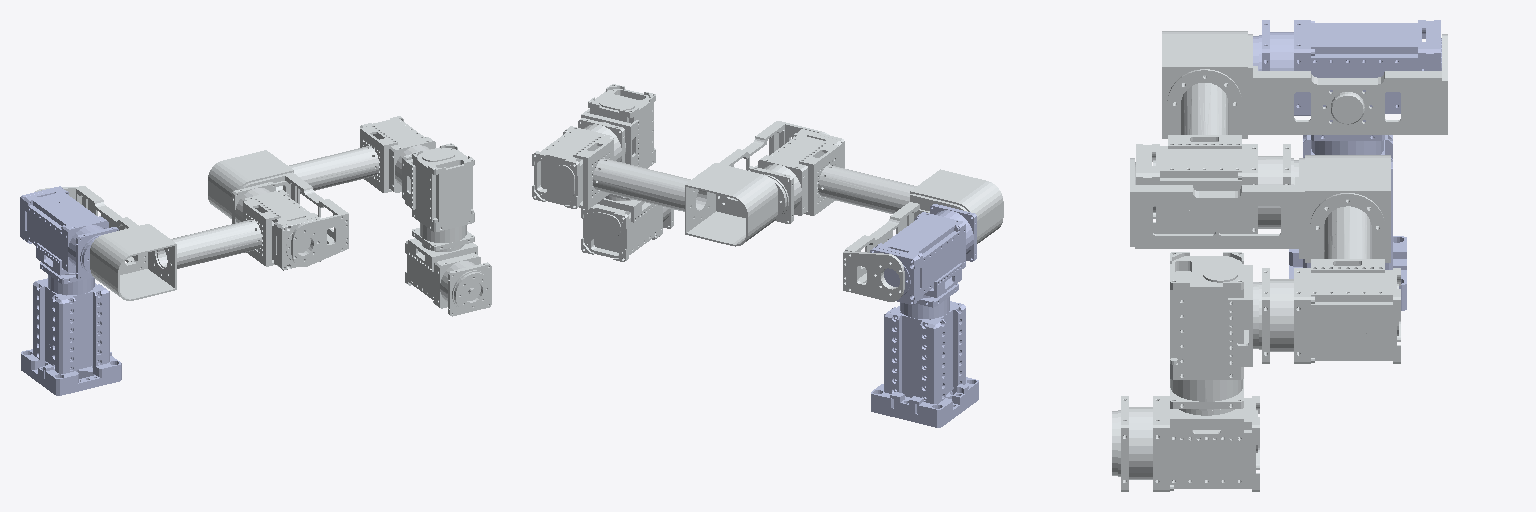
The robot description file, URDF, robot "single_arm_v12":
<?xml version="1.0" encoding="utf-8"?>
<!-- This URDF was automatically created by SolidWorks to URDF Exporter! Originally created by [author] ([email redacted]) 
     Commit Version: 1.6.0-4-g7f85cfe  Build Version: 1.6.7995.38578
     For more information, please see http://wiki.ros.org/sw_urdf_exporter -->
<robot
  name="single_arm_v12">
  <link name="dummy"/>
  <joint name="dummy_joint" type="fixed">
    <parent link="dummy"/>
    <child link="base_link"/>
    </joint>
  <link name='base_link'>
  <!-- <link
    name="base_link"> -->
    <inertial>
      <origin
        xyz="0.00015625 0.00020296 0.064397"
        rpy="0 0 0" />
      <mass
        value="0.47711" />
      <inertia
        ixx="0.00059036"
        ixy="3.555E-10"
        ixz="4.1821E-06"
        iyy="0.00058997"
        iyz="9.8398E-08"
        izz="0.00022102" />
    </inertial>
    <visual>
      <origin
        xyz="0 0 0"
        rpy="0 0 0" />
      <geometry>
        <mesh
          filename="package://single_arm_v12/meshes/base_link.STL" />
      </geometry>
      <material
        name="">
        <color
          rgba="0.79216 0.81961 0.93333 1" />
      </material>
    </visual>
    <collision>
      <origin
        xyz="0 0 0"
        rpy="0 0 0" />
      <geometry>
        <mesh
          filename="package://single_arm_v12/meshes/base_link.STL" />
      </geometry>
    </collision>
  </link>
  <link
    name="Link1">
    <inertial>
      <origin
        xyz="3.4484E-06 0.00039863 0.028769"
        rpy="0 0 0" />
      <mass
        value="0.38613" />
      <inertia
        ixx="0.00047431"
        ixy="-7.0827E-08"
        ixz="-3.5556E-10"
        iyy="0.00017465"
        iyz="4.1821E-06"
        izz="0.00048907" />
    </inertial>
    <visual>
      <origin
        xyz="0 0 0"
        rpy="0 0 0" />
      <geometry>
        <mesh
          filename="package://single_arm_v12/meshes/Link1.STL" />
      </geometry>
      <material
        name="">
        <color
          rgba="0.79216 0.81961 0.93333 1" />
      </material>
    </visual>
    <collision>
      <origin
        xyz="0 0 0"
        rpy="0 0 0" />
      <geometry>
        <mesh
          filename="package://single_arm_v12/meshes/Link1.STL" />
      </geometry>
    </collision>
  </link>
  <joint
    name="Joint1"
    type="revolute">
    <origin
      xyz="0 0 0.1445"
      rpy="0 0 0" />
    <parent
      link="base_link" />
    <child
      link="Link1" />
    <axis
      xyz="0 0 1" />
    <limit
      lower="-3.14"
      upper="3.14"
      effort="50"
      velocity="0" />
  </joint>
  <link
    name="Link2">
    <inertial>
      <origin
        xyz="0.13568 -0.00070506 0.0057888"
        rpy="0 0 0" />
      <mass
        value="0.61539" />
      <inertia
        ixx="0.0005945"
        ixy="1.0755E-06"
        ixz="3.5702E-06"
        iyy="0.00064394"
        iyz="-8.2912E-08"
        izz="0.00039018" />
    </inertial>
    <visual>
      <origin
        xyz="0 0 0"
        rpy="0 0 0" />
      <geometry>
        <mesh
          filename="package://single_arm_v12/meshes/Link2.STL" />
      </geometry>
      <material
        name="">
        <color
          rgba="0.89804 0.91765 0.92941 1" />
      </material>
    </visual>
    <collision>
      <origin
        xyz="0 0 0"
        rpy="0 0 0" />
      <geometry>
        <mesh
          filename="package://single_arm_v12/meshes/Link2.STL" />
      </geometry>
    </collision>
  </link>
  <joint
    name="Joint2"
    type="revolute">
    <origin
      xyz="0 -0.0685 0.0315"
      rpy="1.5708 0 0" />
    <parent
      link="Link1" />
    <child
      link="Link2" />
    <axis
      xyz="0 0 1" />
    <limit
      lower="-3.14"
      upper="3.14"
      effort="50"
      velocity="0" />
  </joint>
  <link
    name="Link3">
    <inertial>
      <origin
        xyz="0.135406483957112 0.000471066373987292 -0.00759294057285472"
        rpy="0 0 0" />
      <mass
        value="0.558726771182515" />
      <inertia
        ixx="0.000527368072379024"
        ixy="-8.79483327326058E-07"
        ixz="-3.57015353375444E-06"
        iyy="0.000579703994248901"
        iyz="-8.29116899084273E-08"
        izz="0.000372569704142056" />
    </inertial>
    <visual>
      <origin
        xyz="0 0 0"
        rpy="0 0 0" />
      <geometry>
        <mesh
          filename="package://single_arm_v12/meshes/Link3.STL" />
      </geometry>
      <material
        name="">
        <color
          rgba="0.898039215686275 0.917647058823529 0.929411764705882 1" />
      </material>
    </visual>
    <collision>
      <origin
        xyz="0 0 0"
        rpy="0 0 0" />
      <geometry>
        <mesh
          filename="package://single_arm_v12/meshes/Link3.STL" />
      </geometry>
    </collision>
  </link>
  <joint
    name="Joint3"
    type="revolute">
    <origin
      xyz="0.214 0 -0.0325"
      rpy="0 0 0" />
    <parent
      link="Link2" />
    <child
      link="Link3" />
    <axis
      xyz="0 0 -1" />
    <limit
      lower="-3.14"
      upper="3.14"
      effort="50"
      velocity="0" />
  </joint>
  <link
    name="Link4">
    <inertial>
      <origin
        xyz="-1.11022302462516E-16 0.0124471610012716 0.0305494763505743"
        rpy="0 0 0" />
      <mass
        value="0.313854171959486" />
      <inertia
        ixx="0.00030905374217572"
        ixy="2.20104937481116E-19"
        ixz="1.99389141092033E-20"
        iyy="0.000138417182248756"
        iyz="-3.51429818496687E-06"
        izz="0.000324741574348905" />
    </inertial>
    <visual>
      <origin
        xyz="0 0 0"
        rpy="0 0 0" />
      <geometry>
        <mesh
          filename="package://single_arm_v12/meshes/Link4.STL" />
      </geometry>
      <material
        name="">
        <color
          rgba="0.898039215686275 0.917647058823529 0.929411764705882 1" />
      </material>
    </visual>
    <collision>
      <origin
        xyz="0 0 0"
        rpy="0 0 0" />
      <geometry>
        <mesh
          filename="package://single_arm_v12/meshes/Link4.STL" />
      </geometry>
    </collision>
  </link>
  <joint
    name="Joint4"
    type="revolute">
    <origin
      xyz="0.214 0 0.0325"
      rpy="0 0 3.1416" />
    <parent
      link="Link3" />
    <child
      link="Link4" />
    <axis
      xyz="0 0 1" />
    <limit
      lower="-3.14"
      upper="3.14"
      effort="50"
      velocity="0" />
  </joint>
  <link
    name="Link5">
    <inertial>
      <origin
        xyz="0.0305494763505902 0.0124160882702156 -0.000878959076247798"
        rpy="0 0 0" />
      <mass
        value="0.313854171959487" />
      <inertia
        ixx="0.000324741574348905"
        ixy="-3.50552519309465E-06"
        ixz="2.48162957481373E-07"
        iyy="0.000139268063164469"
        iyz="1.20194589741801E-05"
        izz="0.000308202861260008" />
    </inertial>
    <visual>
      <origin
        xyz="0 0 0"
        rpy="0 0 0" />
      <geometry>
        <mesh
          filename="package://single_arm_v12/meshes/Link5.STL" />
      </geometry>
      <material
        name="">
        <color
          rgba="0.898039215686275 0.917647058823529 0.929411764705882 1" />
      </material>
    </visual>
    <collision>
      <origin
        xyz="0 0 0"
        rpy="0 0 0" />
      <geometry>
        <mesh
          filename="package://single_arm_v12/meshes/Link5.STL" />
      </geometry>
    </collision>
  </link>
  <joint
    name="Joint5"
    type="revolute">
    <origin
      xyz="0 0.0685 0.0346"
      rpy="1.5708 0 1.5708" />
    <parent
      link="Link4" />
    <child
      link="Link5" />
    <axis
      xyz="-1 0 0" />
    <limit
      lower="-3.14"
      upper="3.14"
      effort="50"
      velocity="0" />
  </joint>
  <link
    name="Link6">
    <inertial>
      <origin
        xyz="-0.20184 0.067993 -0.13565"
        rpy="0 0 0" />
      <mass
        value="5.5581" />
      <inertia
        ixx="0.039288"
        ixy="-0.0053509"
        ixz="-0.046451"
        iyy="0.22224"
        iyz="-5.0688E-05"
        izz="0.21337" />
    </inertial>
    <visual>
      <origin
        xyz="0 0 0"
        rpy="0 0 0" />
      <geometry>
        <mesh
          filename="package://single_arm_v12/meshes/Link6.STL" />
      </geometry>
      <material
        name="">
        <color
          rgba="1 1 1 1" />
      </material>
    </visual>
    <collision>
      <origin
        xyz="0 0 0"
        rpy="0 0 0" />
      <geometry>
        <mesh
          filename="package://single_arm_v12/meshes/Link6.STL" />
      </geometry>
    </collision>
  </link>
  <joint
    name="Joint6"
    type="revolute">
    <origin
      xyz="0.0346 0.068329 -0.0048371"
      rpy="3.1416 1.5001 -1.5708" />
    <parent
      link="Link5" />
    <child
      link="Link6" />
    <axis
      xyz="0 0 1" />
    <limit
      lower="-3.14"
      upper="3.14"
      effort="50"
      velocity="0" />
  </joint>
</robot>

--- Render facts (derived) ---
The picture shows the robot from 3 angles, left to right: view 1: azimuth 30°, elevation 25°; view 2: azimuth 150°, elevation 25°; view 3: azimuth 270°, elevation 25°; orthographic projection.
Model single_arm_v12 with 8 links and 7 joints (6 revolute, 1 fixed), rooted at dummy, posed every joint at zero.
Visible links, largest first — view 1: Link2, Link3, base_link, Link4, Link1, Link5; view 2: Link3, Link2, base_link, Link1, Link5, Link4; view 3: Link2, Link3, Link4, Link5, Link1, base_link.
Link boxes in pixels (x1,y1,x2,y2): Link2: (35, 182, 321, 300); Link3: (208, 116, 439, 266); base_link: (21, 262, 121, 395); Link4: (405, 143, 474, 250); Link1: (20, 186, 118, 280); Link5: (405, 238, 491, 316); Link3: (532, 118, 828, 246); Link2: (747, 129, 1003, 301); base_link: (871, 283, 978, 427); Link1: (870, 204, 976, 304); Link5: (581, 196, 673, 261); Link4: (581, 84, 655, 199); Link2: (1135, 31, 1447, 233); Link3: (1130, 155, 1400, 363); Link4: (1170, 252, 1258, 410); Link5: (1112, 396, 1259, 491); Link1: (1253, 20, 1441, 121); base_link: (1289, 135, 1406, 310).
Bounding box of the posed robot: 0.501 × 0.2451 × 0.215 m (x, y, z).
Meshes: 7 distinct files referenced, 6 mesh visuals loaded (6 binary STL); not drawn: 1 (reference not matched to a file when rendering).